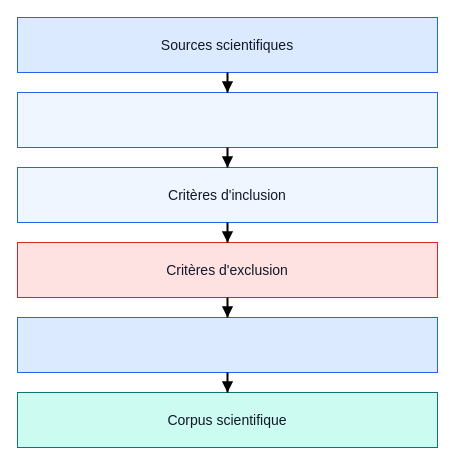
Some shapes in this 455 by 465 pixel diagram are drawn without their labels. The shapes that lost their labels are listed below. From the top down, each one's centre as x and y in pixels, then its label:
At point 227,120: "Recherche documentaire".
At point 227,344: "Documents retenus".
